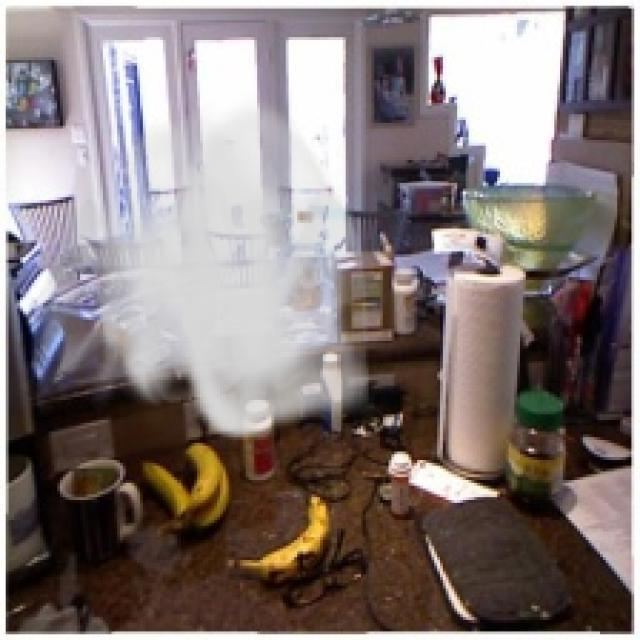Smoke: (28, 91, 380, 443)
